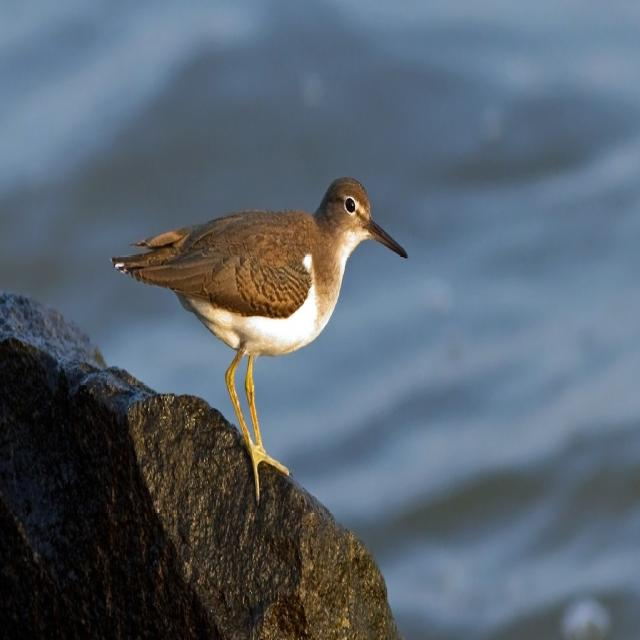bird: (103, 169, 423, 472)
